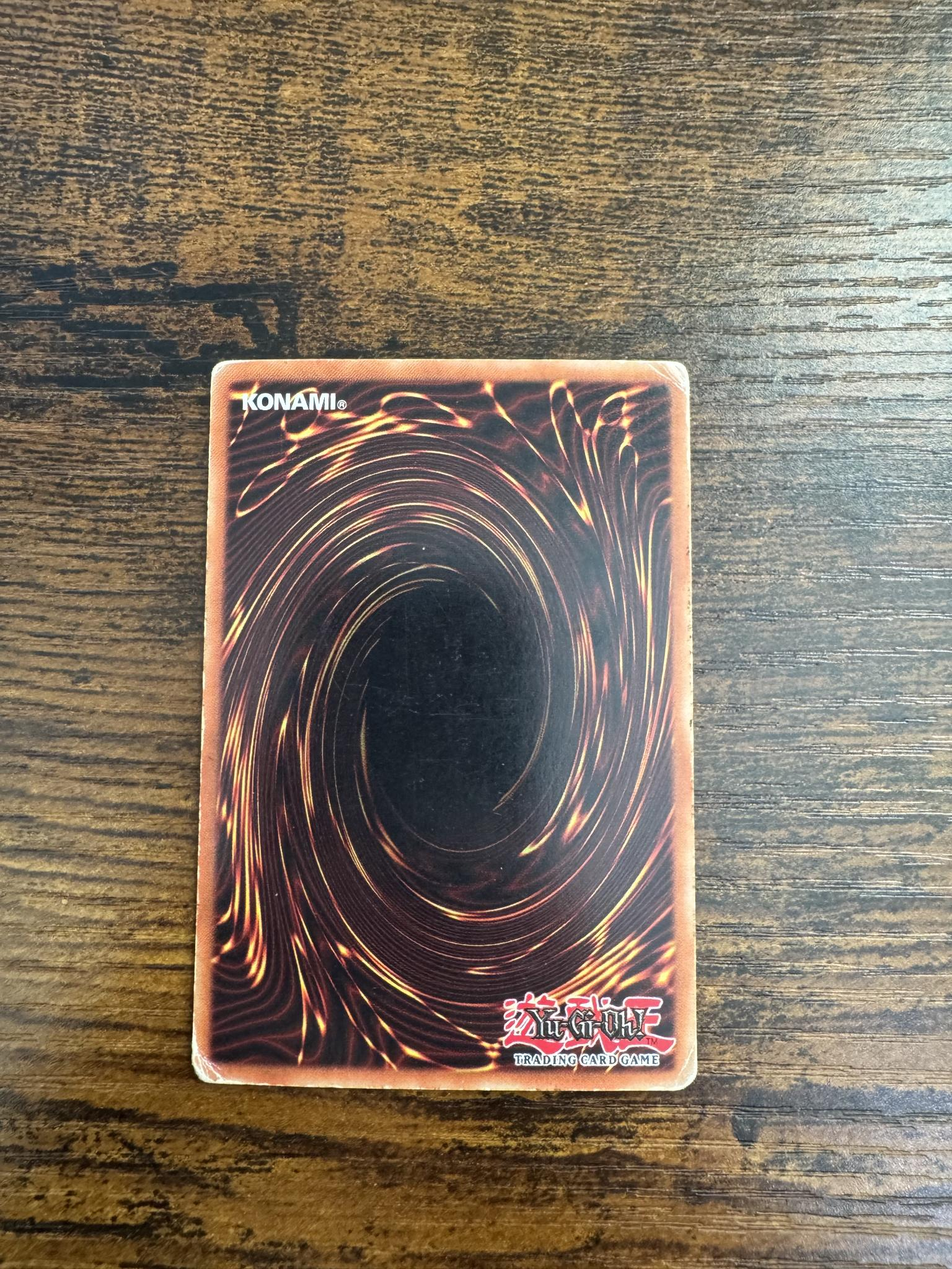card-2UtV: (191, 359, 698, 1091)
